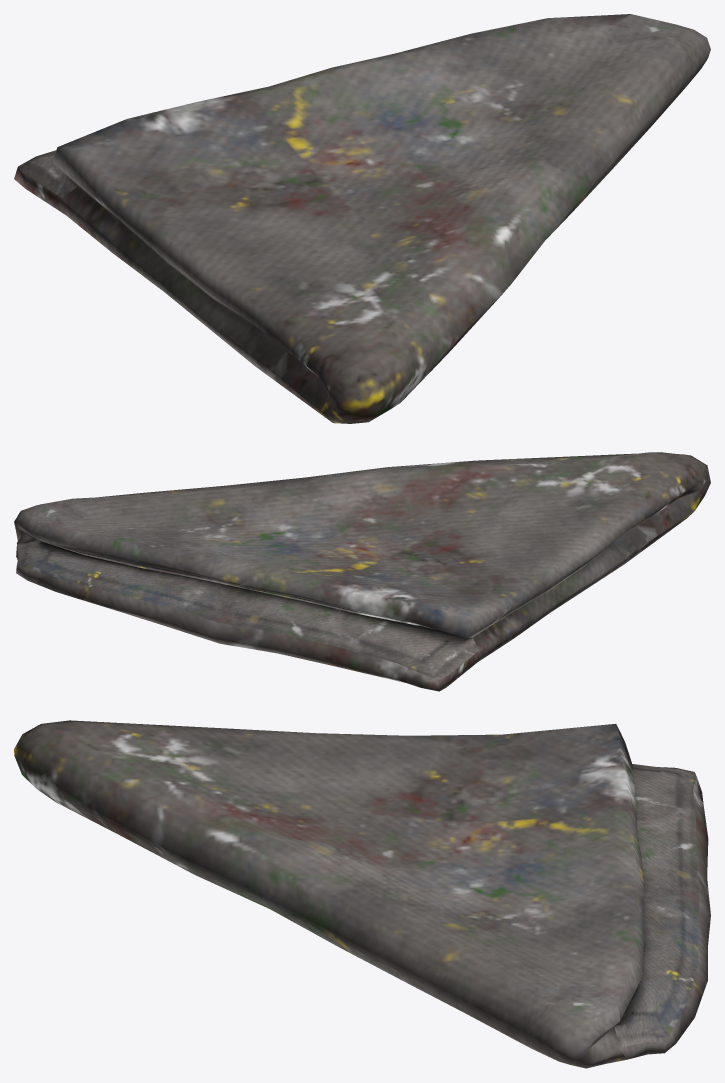
File: smallpaintRag.fbx
The picture shows the model from 3 angles, top to bottom: view 1: azimuth 30°, elevation 25°; view 2: azimuth 150°, elevation 25°; view 3: azimuth 270°, elevation 25°; orthographic projection. The views are drawn at different scales.
Parts seen in each view (by area): view 1: paintRag2; view 2: paintRag2; view 3: paintRag2.
Boxes of the visible parts, x1,y1,x2,y2 form: paintRag2: (14, 14, 710, 423); paintRag2: (14, 452, 710, 691); paintRag2: (14, 720, 710, 1068).
Bounding box in the file's own units: 19.5 × 2.38 × 18.8.
1 material, 1 textured.
